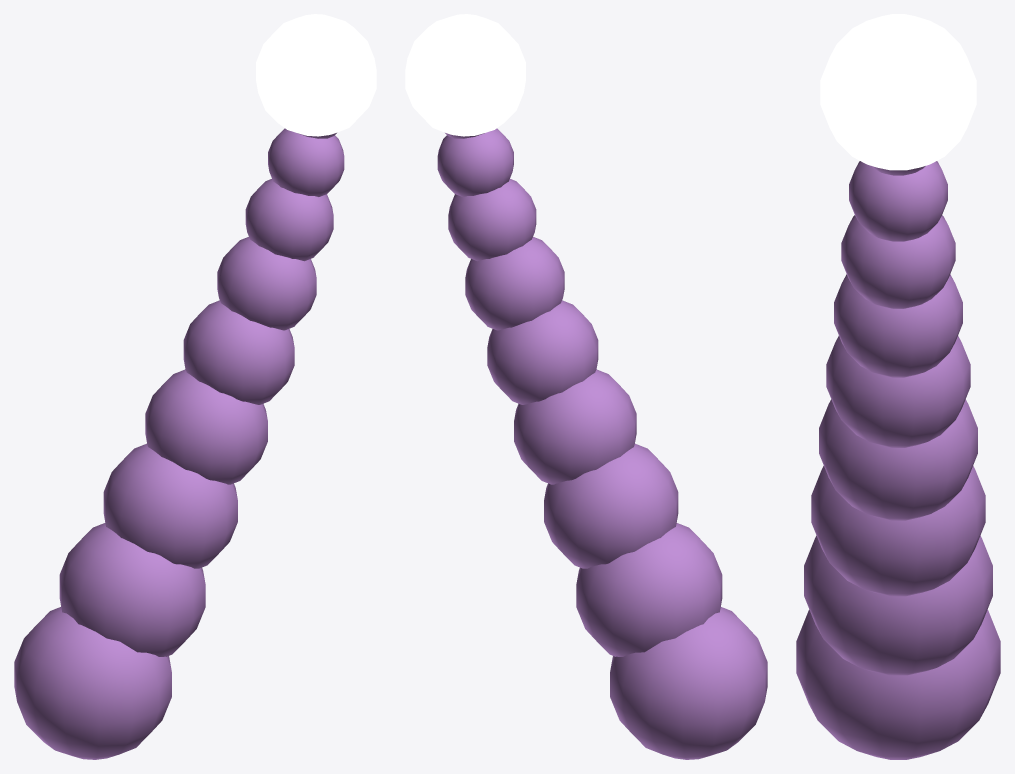
Rendered from alien__stalk.fbx.
3 views of the same model, side by side, from view 1: azimuth 30°, elevation 25°; view 2: azimuth 150°, elevation 25°; view 3: azimuth 270°, elevation 25° (orthographic). The views are drawn at different scales.
Parts seen in each view (by area): view 1: alien__stalk; view 2: alien__stalk; view 3: alien__stalk.
Boxes of the visible parts, x1,y1,x2,y2 form: alien__stalk: [14, 14, 376, 759]; alien__stalk: [405, 14, 767, 759]; alien__stalk: [796, 14, 1000, 759].
Size of the model in its own units: 1.66 by 3.15 by 0.6697.
